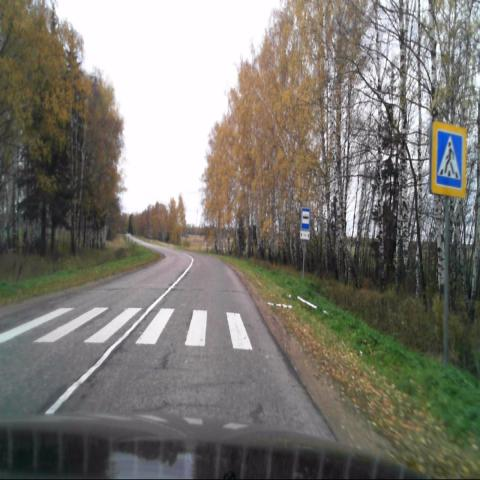5_16: (301, 207, 310, 229)
5_19_1: (430, 122, 467, 201)
